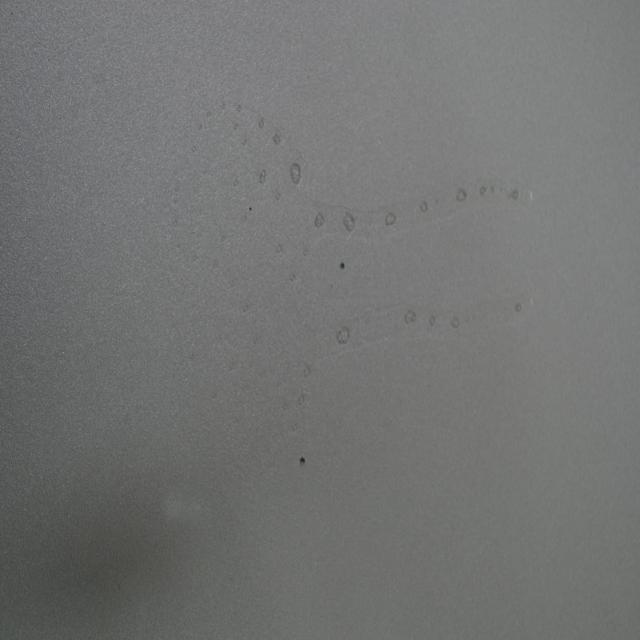dirt: (297, 455, 308, 467), (337, 259, 348, 270)
runs: (186, 100, 539, 469)
